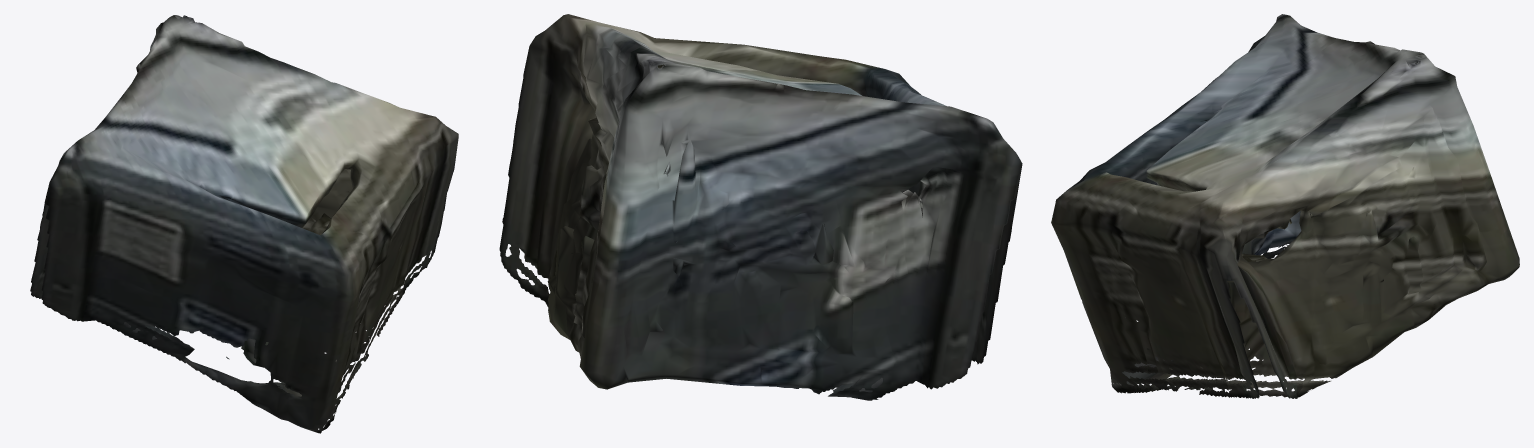
File: cargocrate.glb
3 views of the same model, side by side, from view 1: azimuth 30°, elevation 25°; view 2: azimuth 150°, elevation 25°; view 3: azimuth 270°, elevation 25° (orthographic). The views are drawn at different scales.
Visible parts, largest first — view 1: geometry_0; view 2: geometry_0; view 3: geometry_0.
Boxes of the visible parts, x1=… form: geometry_0: x1=30, y1=15, x2=458, y2=433; geometry_0: x1=499, y1=14, x2=1022, y2=400; geometry_0: x1=1051, y1=14, x2=1519, y2=398.
Size of the model in its own units: 1.22 by 0.9496 by 1.2.
1 material, 1 textured.
